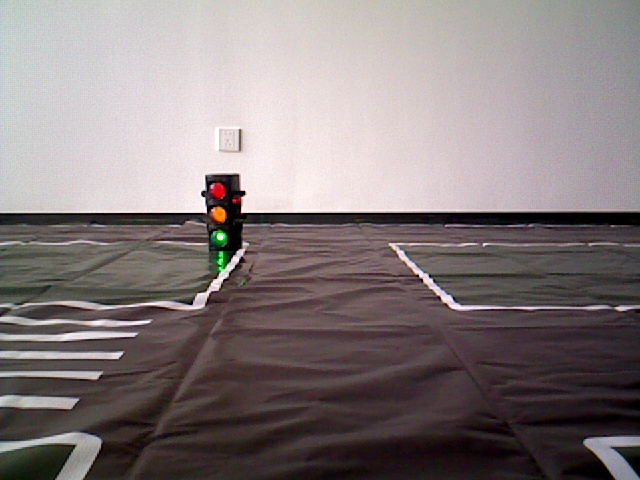green: (205, 177, 238, 242)
